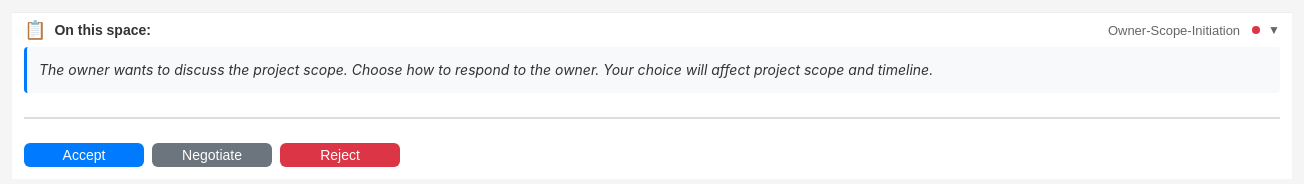
it: CurrentCardSection › Choice Handling › should handle choice resolution errors
Step 1. Click the button "Accept" → click(84, 155), box [24,143,144,167]
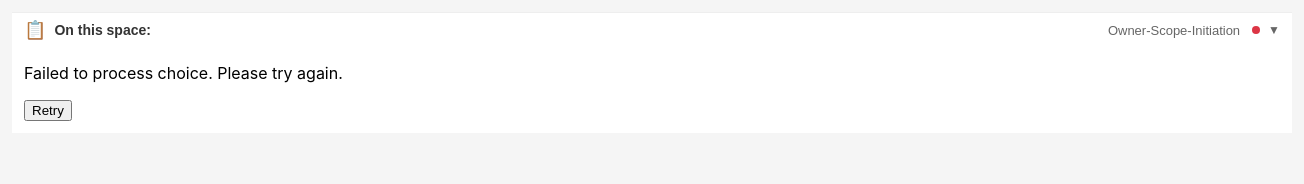
Now the text "Failed to process choice. Please try again." is shown, box [24,63,343,83]
